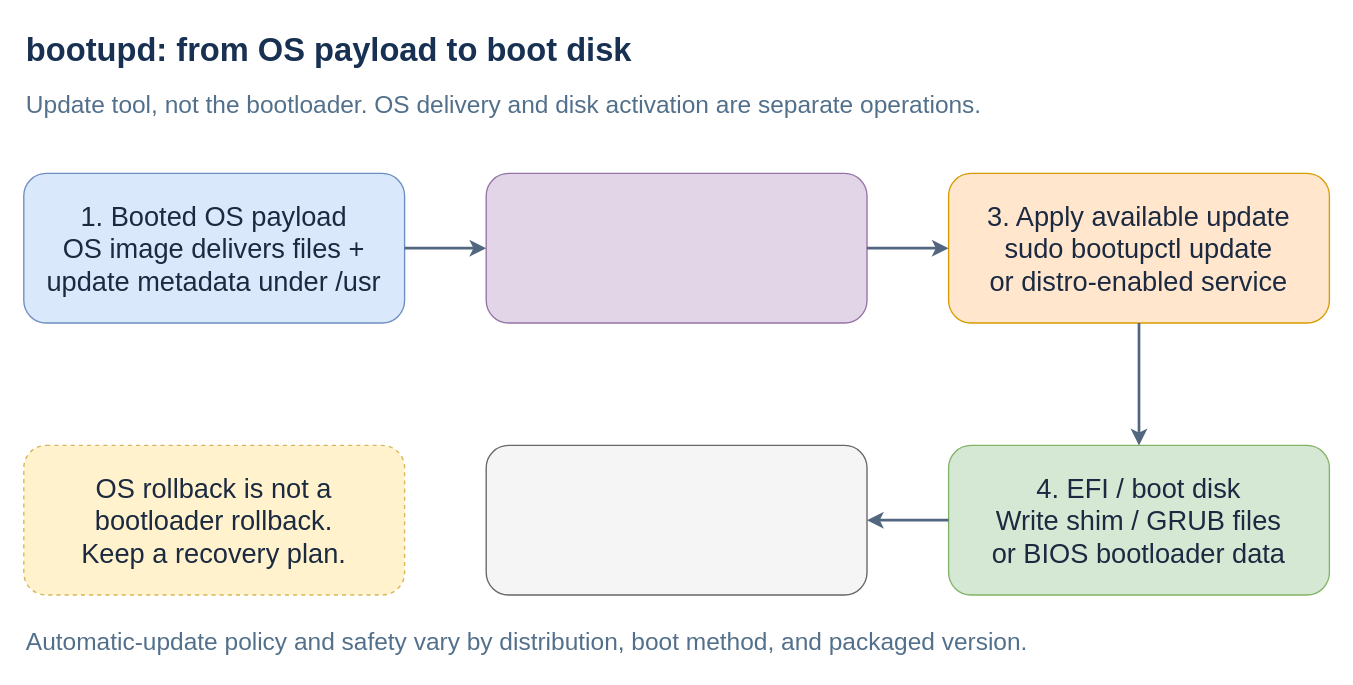
Some shapes in this 1353 by 685 pixel diagram are drawn without their labels. Each missing label, with the centre of its shape:
2. Inspect status sudo bootupctl status Installed vs. available: the point at 676,247
5. Next boot Firmware starts bootloader Bootloader loads kernel: the point at 676,519
